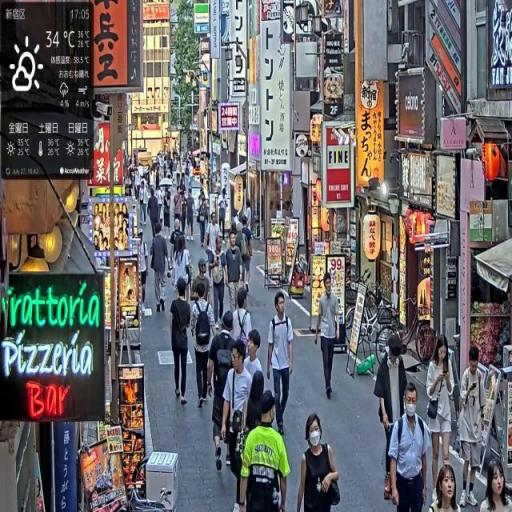person: (218, 338, 257, 511), (386, 384, 434, 512), (241, 390, 291, 512), (376, 333, 411, 499), (427, 334, 458, 502), (458, 344, 489, 510), (207, 311, 237, 468), (296, 411, 342, 512), (268, 293, 295, 444), (190, 277, 218, 410), (315, 273, 342, 402), (171, 276, 194, 407), (150, 220, 171, 315), (479, 462, 512, 512), (212, 236, 229, 332), (429, 462, 460, 512), (225, 231, 243, 317), (172, 230, 193, 303), (232, 287, 253, 357), (207, 214, 222, 273), (147, 191, 161, 243), (199, 195, 209, 248)
